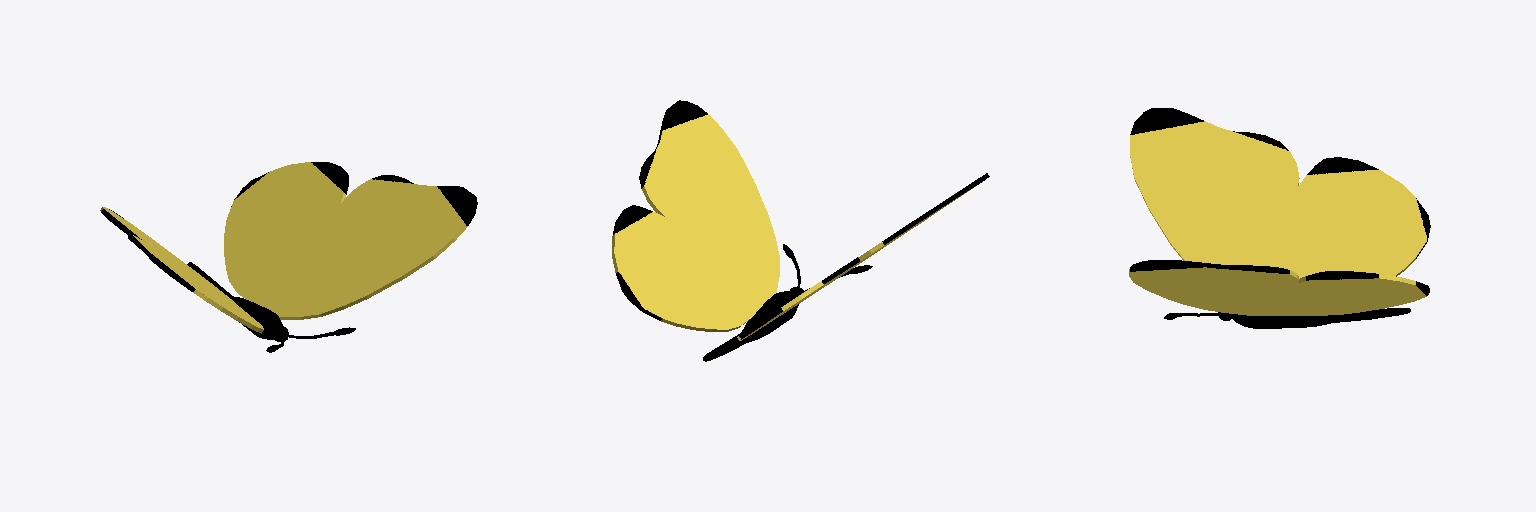
3 views of the same model, side by side, from view 1: azimuth 30°, elevation 25°; view 2: azimuth 150°, elevation 25°; view 3: azimuth 270°, elevation 25° (orthographic).
Parts seen in each view (by area): view 1: Butterfly_yellow; view 2: Butterfly_yellow; view 3: Butterfly_yellow.
Boxes of the visible parts, x1=… form: Butterfly_yellow: x1=100, y1=162, x2=477, y2=352; Butterfly_yellow: x1=612, y1=100, x2=989, y2=361; Butterfly_yellow: x1=1129, y1=108, x2=1430, y2=328.
Bounding box in the file's own units: 3.15 × 1.41 × 2.63.
Materials: 1 (1 with a texture image).